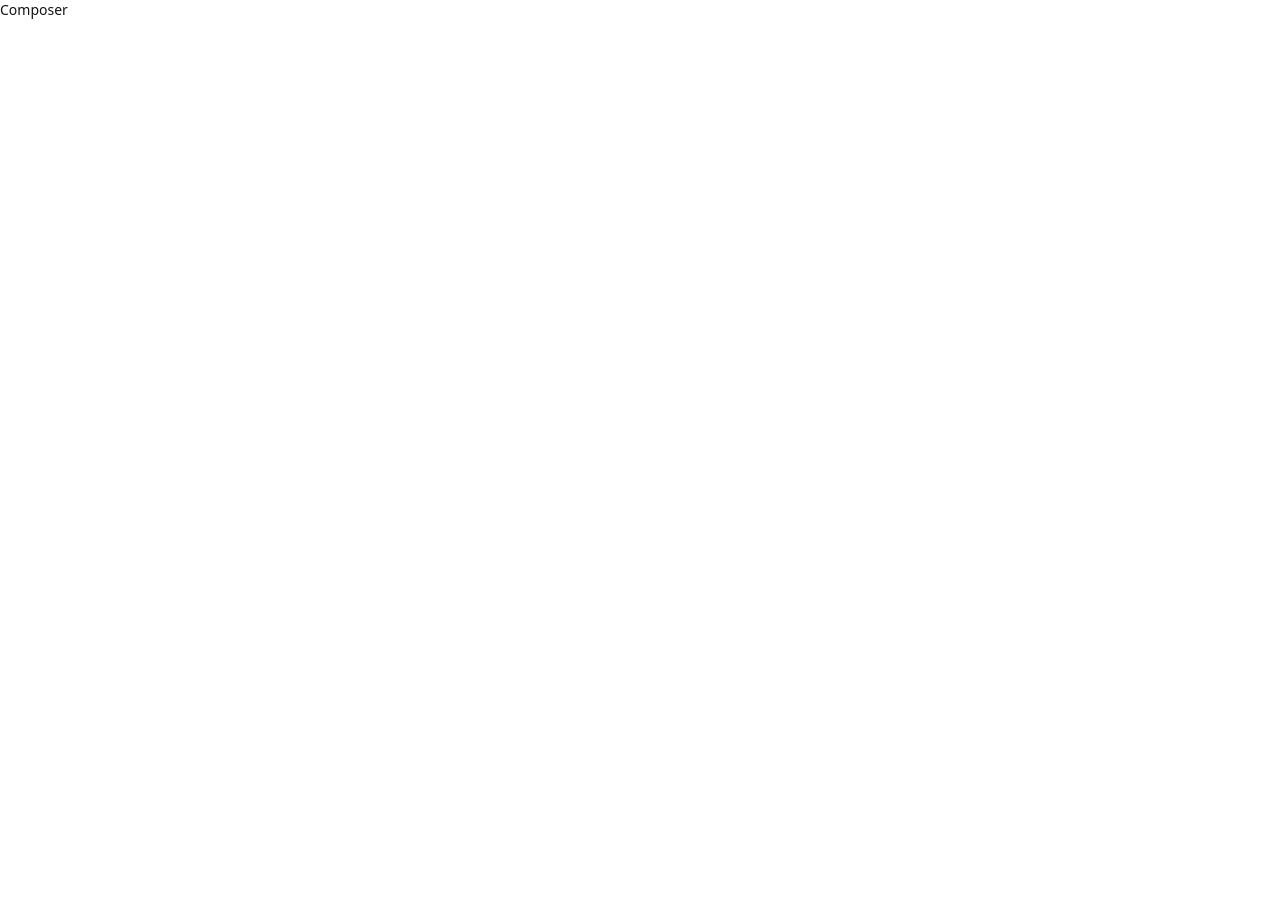
Test: CommandPalette › asks before stopping every agent, then shows the tray's notice
Press k
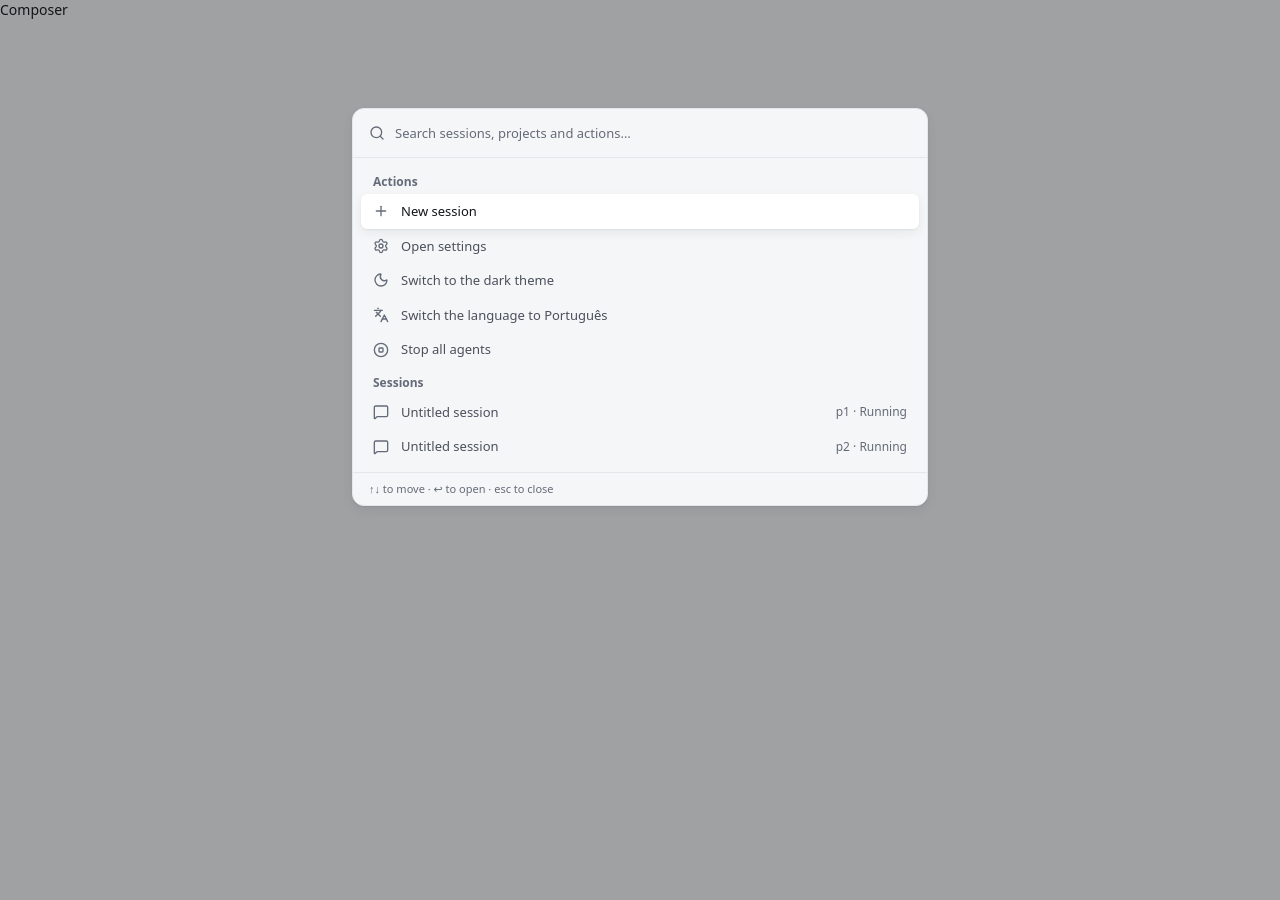
Type "stop all" into the dropdown named "Command palette" at (653, 133), box [395,109,911,157]
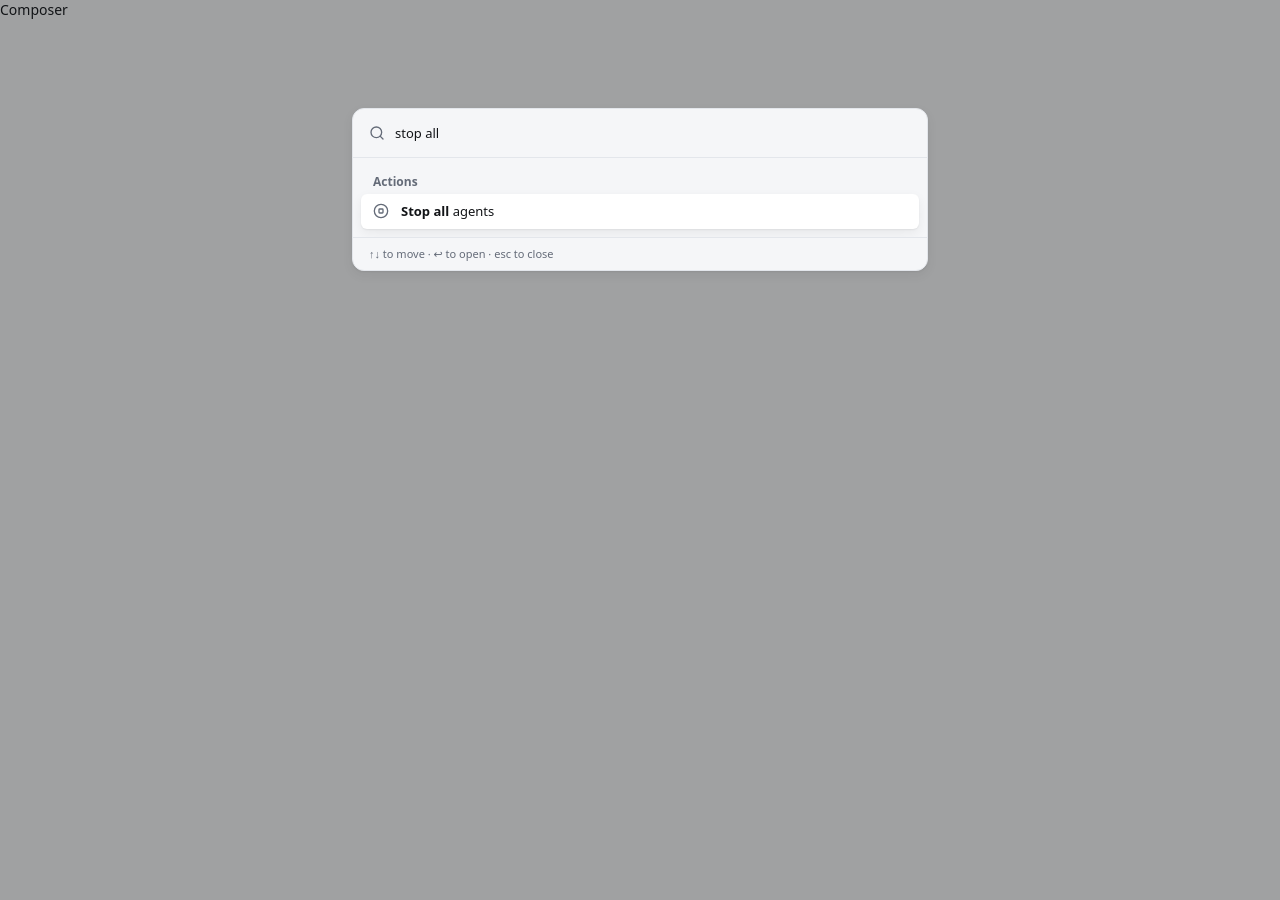
Press Enter in the dropdown named "Command palette", box [395,109,911,157]
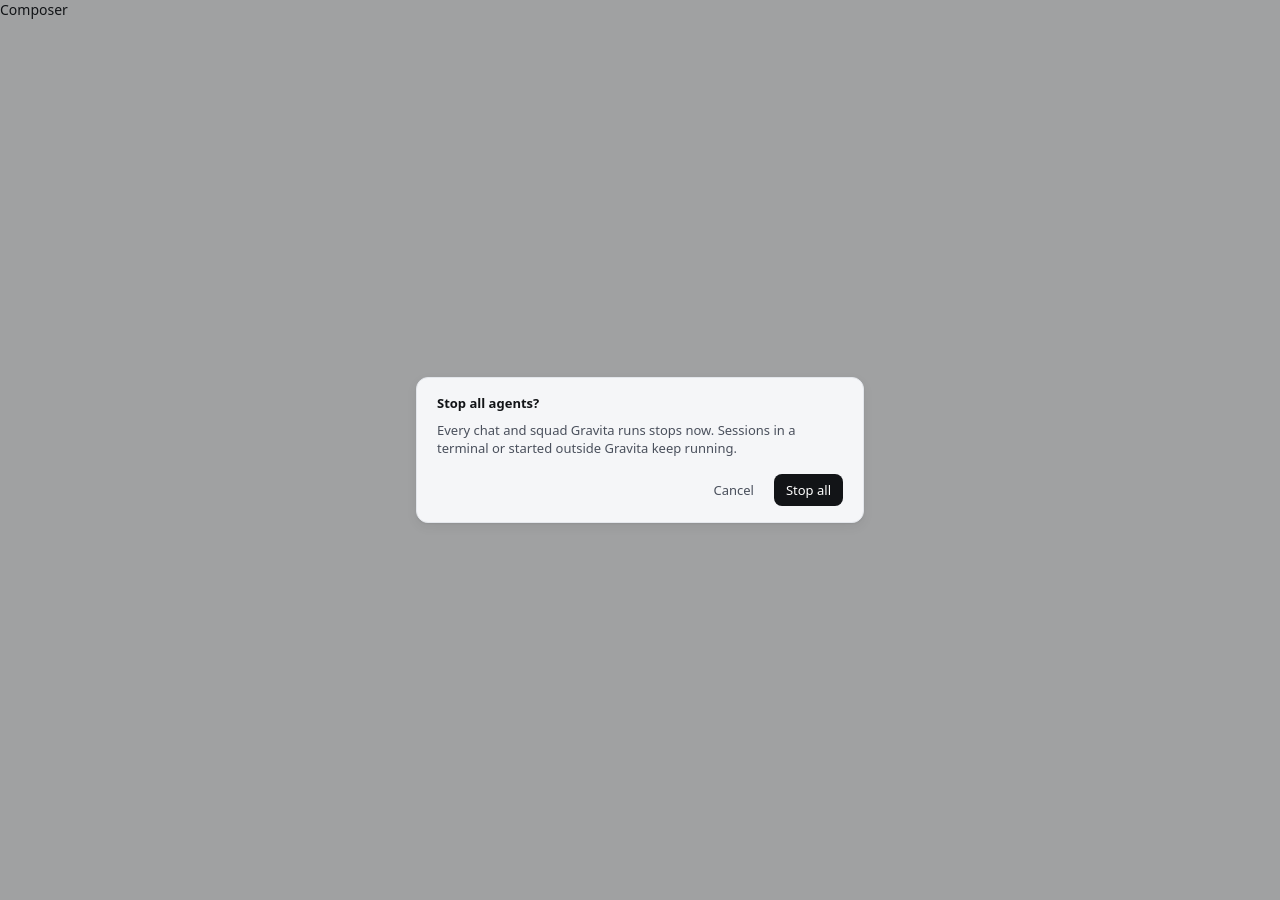
Check: the dialog "Stop all agents?" is shown, box [416,377,864,523]
Click the button "Stop all" at (808, 490), box [774,474,843,506]
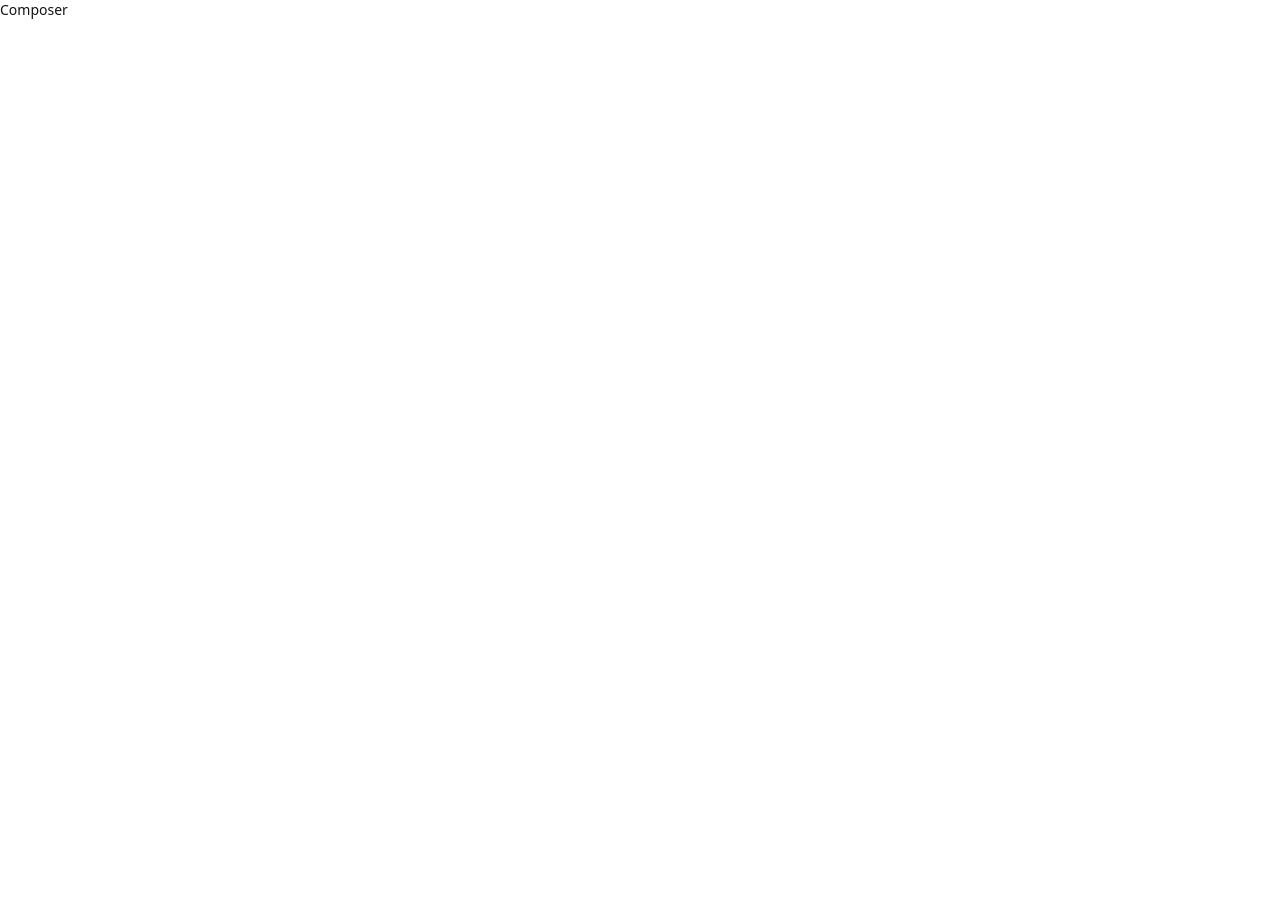
Check: the dialog is gone
